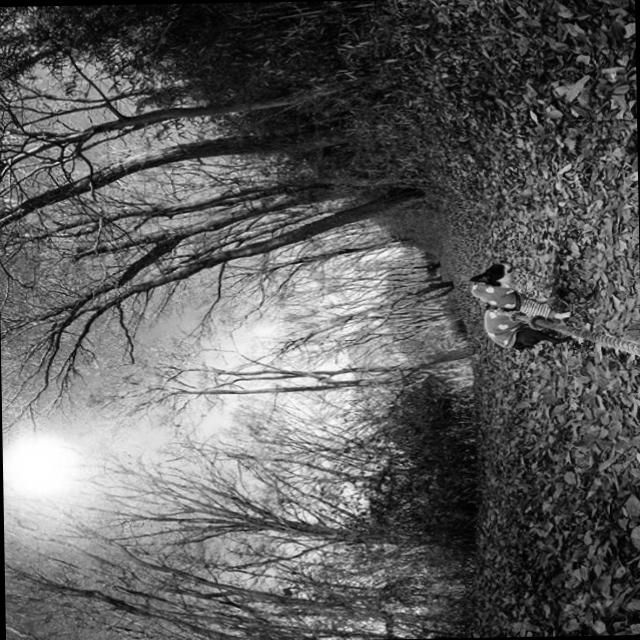squatting: (467, 252, 578, 356)
